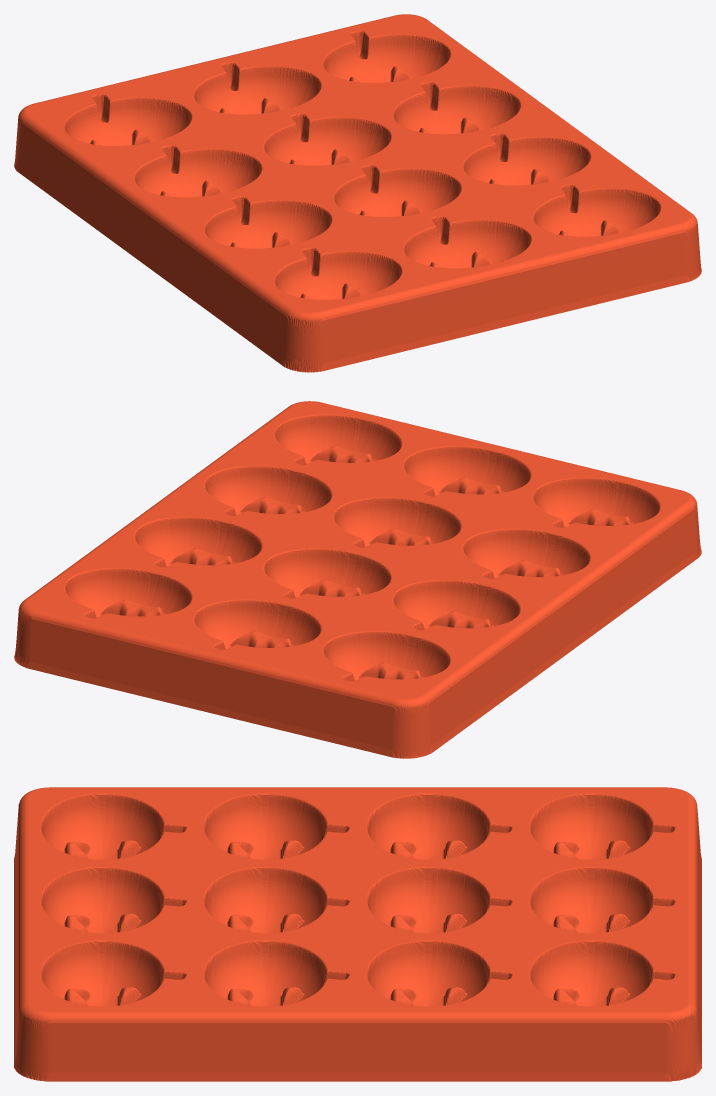
File: mold.glb
The picture shows the model from 3 angles, top to bottom: view 1: azimuth 30°, elevation 25°; view 2: azimuth 150°, elevation 25°; view 3: azimuth 270°, elevation 25°; orthographic projection. The views are drawn at different scales.
Parts seen in each view (by area): view 1: geometry_0; view 2: geometry_0; view 3: geometry_0.
Part boxes in pixels (x1=…): geometry_0: x1=14, y1=14, x2=701, y2=372; geometry_0: x1=14, y1=401, x2=701, y2=758; geometry_0: x1=14, y1=787, x2=701, y2=1081.
Size of the model in its own units: 0.1389 by 0.0175 by 0.1714.
